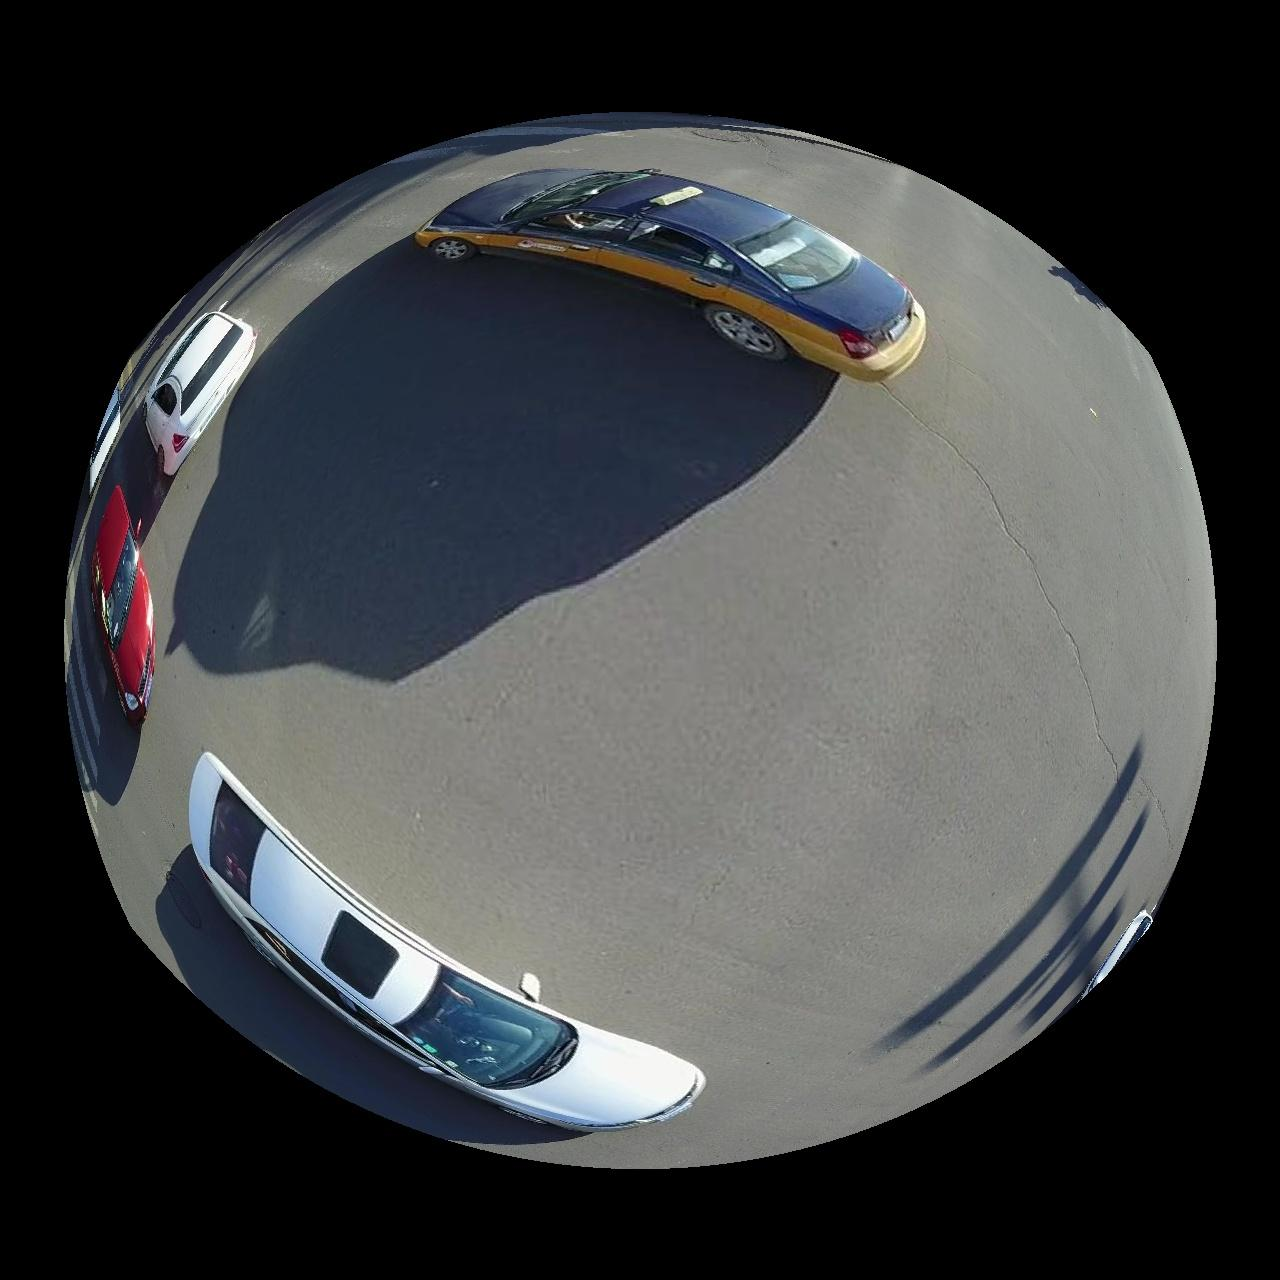cars: (188, 753, 704, 1133), (414, 166, 928, 380)
